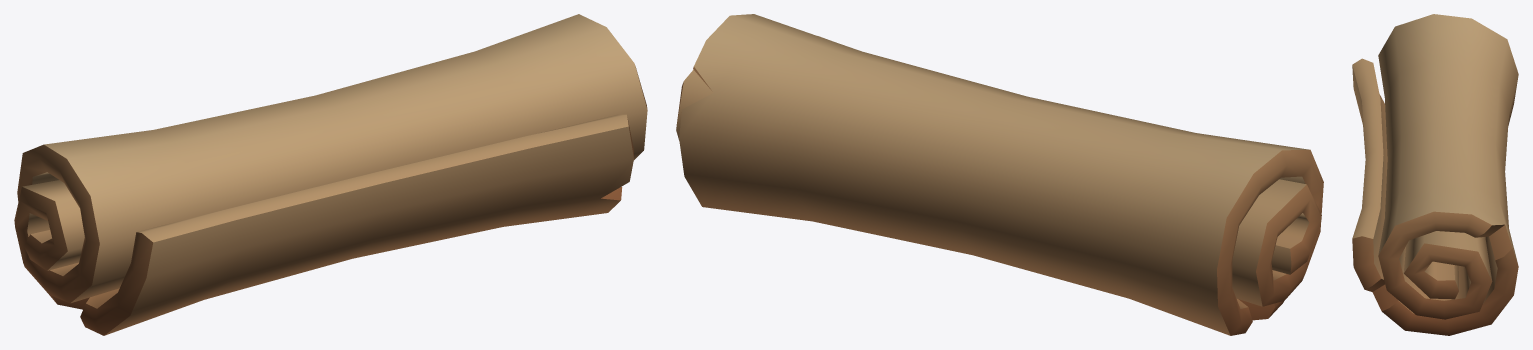
The model's file is Basic_Scroll_02.glb.
The picture shows the model from 3 angles, left to right: view 1: azimuth 30°, elevation 25°; view 2: azimuth 150°, elevation 25°; view 3: azimuth 270°, elevation 25°; orthographic projection. The views are drawn at different scales.
Parts seen in each view (by area): view 1: Basic_Scroll_02; view 2: Basic_Scroll_02; view 3: Basic_Scroll_02.
Boxes of the visible parts, bbox=[...] form: Basic_Scroll_02: bbox=[14, 14, 647, 335]; Basic_Scroll_02: bbox=[676, 14, 1323, 335]; Basic_Scroll_02: bbox=[1352, 14, 1518, 335].
Size of the model in its own units: 0.8443 by 0.2339 by 0.2724.
1 material, 1 textured.
